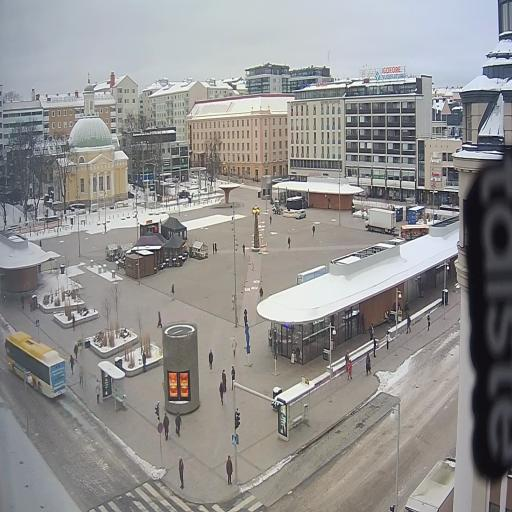Bus: (5, 331, 66, 397)
